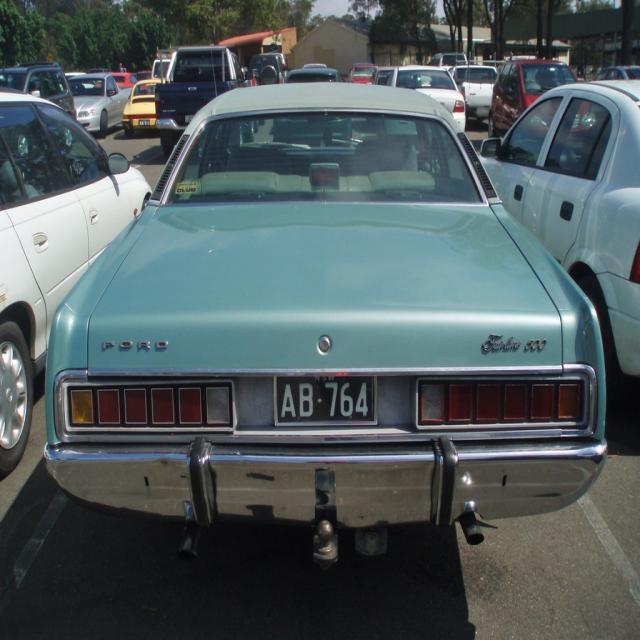Passenger Car: (44, 82, 610, 571)
